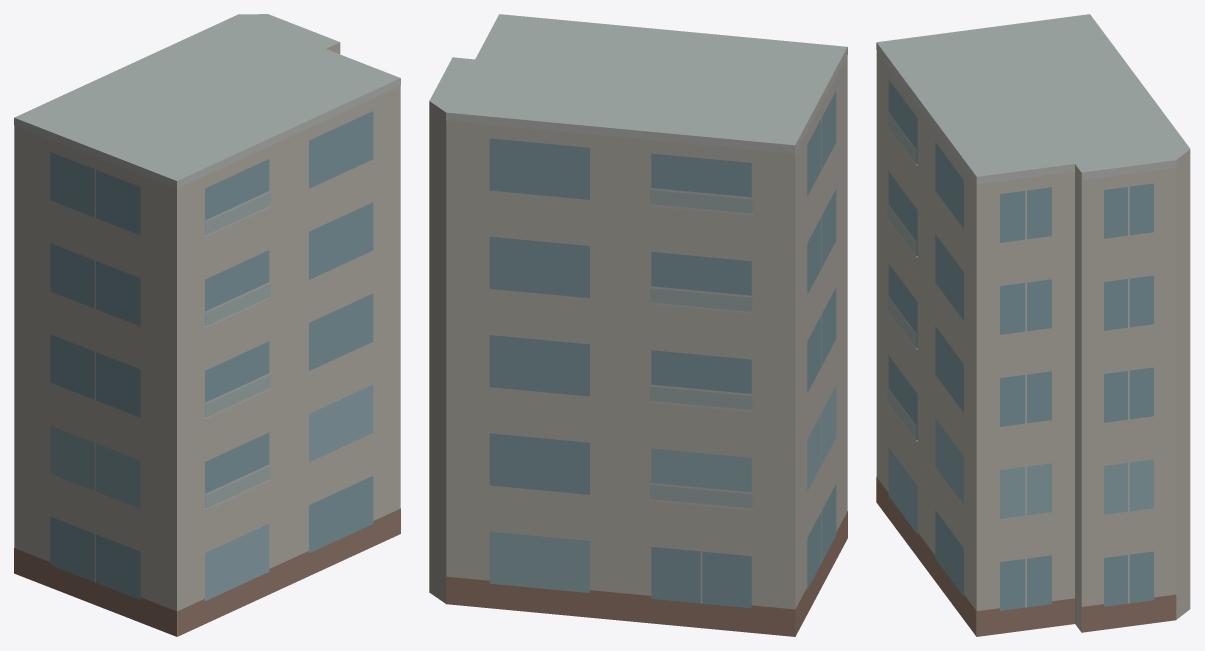
The model's file is survey-upis-32772330.glb.
3 views of the same model, side by side, from view 1: azimuth 30°, elevation 25°; view 2: azimuth 150°, elevation 25°; view 3: azimuth 270°, elevation 25° (orthographic). The views are drawn at different scales.
Visible parts, largest first — view 1: survey-upis-32772330.tmp; view 2: survey-upis-32772330.tmp; view 3: survey-upis-32772330.tmp.
Part boxes in pixels (x1,y1,x2,y2): survey-upis-32772330.tmp: (14,14,400,636); survey-upis-32772330.tmp: (429,14,847,636); survey-upis-32772330.tmp: (876,14,1190,636).
Size of the model in its own units: 11.13 by 14.65 by 9.07.
